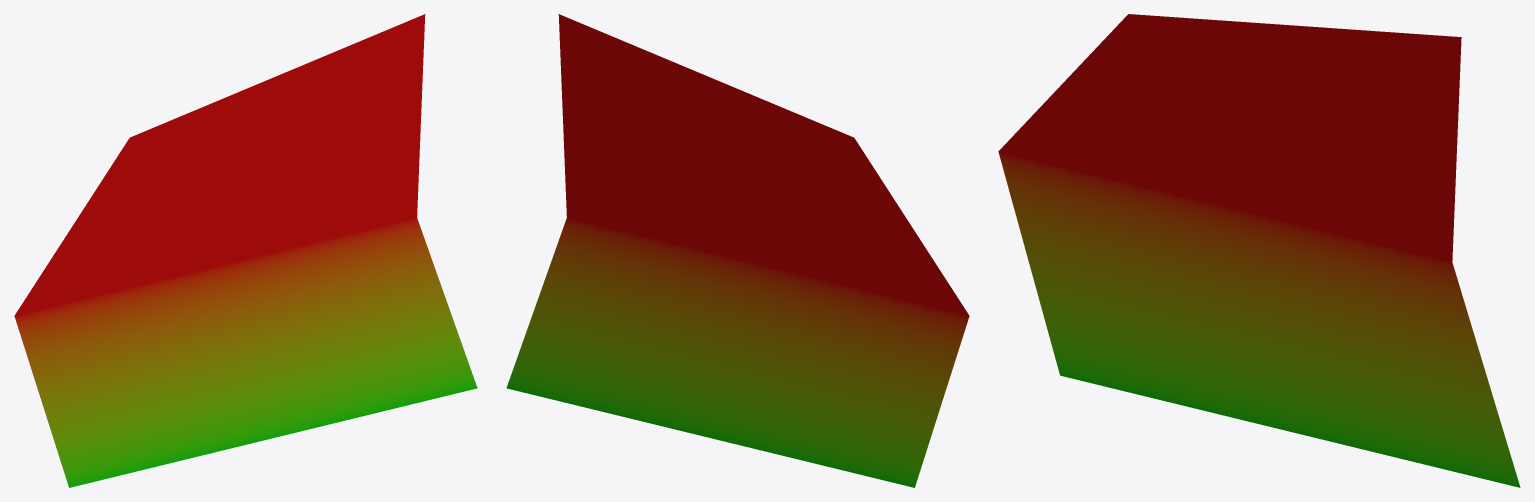
File: Var5_LOD3.fbx
3 renders of one model, left to right at view 1: azimuth 30°, elevation 25°; view 2: azimuth 150°, elevation 25°; view 3: azimuth 330°, elevation 25°, orthographic. The views are drawn at different scales.
Parts seen in each view (by area): view 1: _140f_Var5_LOD3; view 2: _140f_Var5_LOD3; view 3: _140f_Var5_LOD3.
Part boxes in pixels (x1,y1,x2,y2): _140f_Var5_LOD3: (14,14,477,487); _140f_Var5_LOD3: (506,14,969,487); _140f_Var5_LOD3: (998,14,1520,487).
Bounding box in the file's own units: 93.33 × 74.53 × 3.93e-06.
